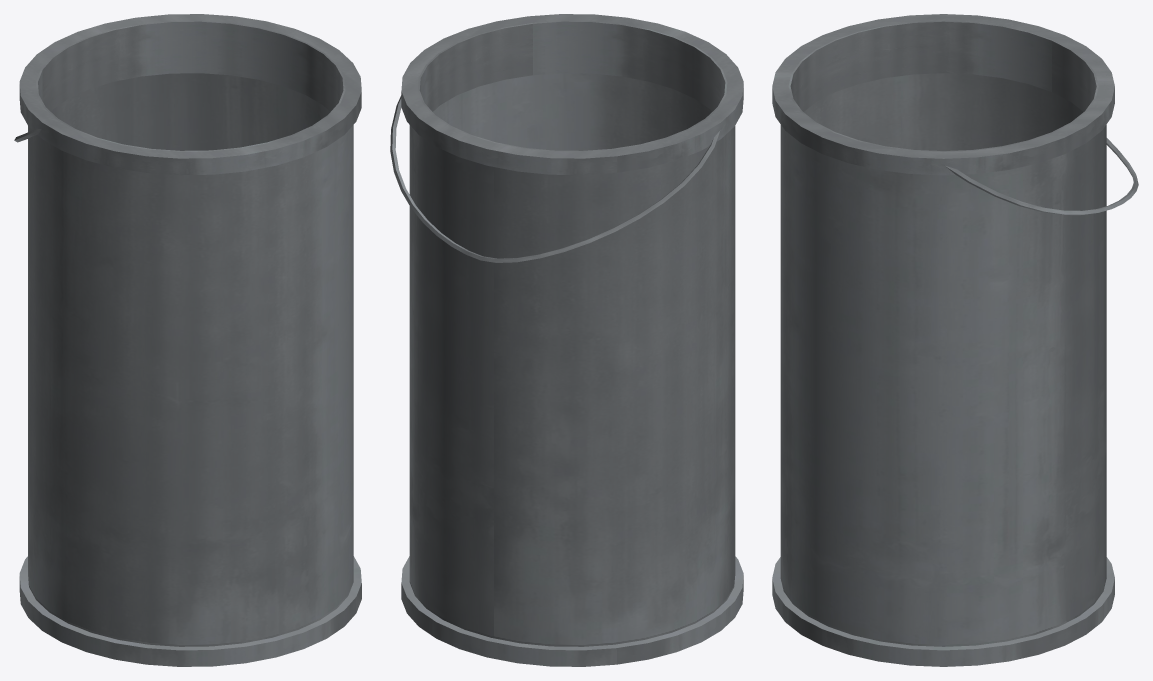
Rendered from trash-bin.glb.
3 renders of one model, left to right at view 1: azimuth 30°, elevation 25°; view 2: azimuth 150°, elevation 25°; view 3: azimuth 270°, elevation 25°, orthographic.
Visible parts, largest first — view 1: Cylinder; view 2: Cylinder; view 3: Cylinder.
Boxes of the visible parts, left/top/right/bottom form: Cylinder: left=14, top=14, right=361, bottom=666; Cylinder: left=390, top=14, right=743, bottom=666; Cylinder: left=772, top=14, right=1138, bottom=666.
Size of the model in its own units: 1.25 by 2 by 1.31.
Materials: 2 (2 with a texture image).
